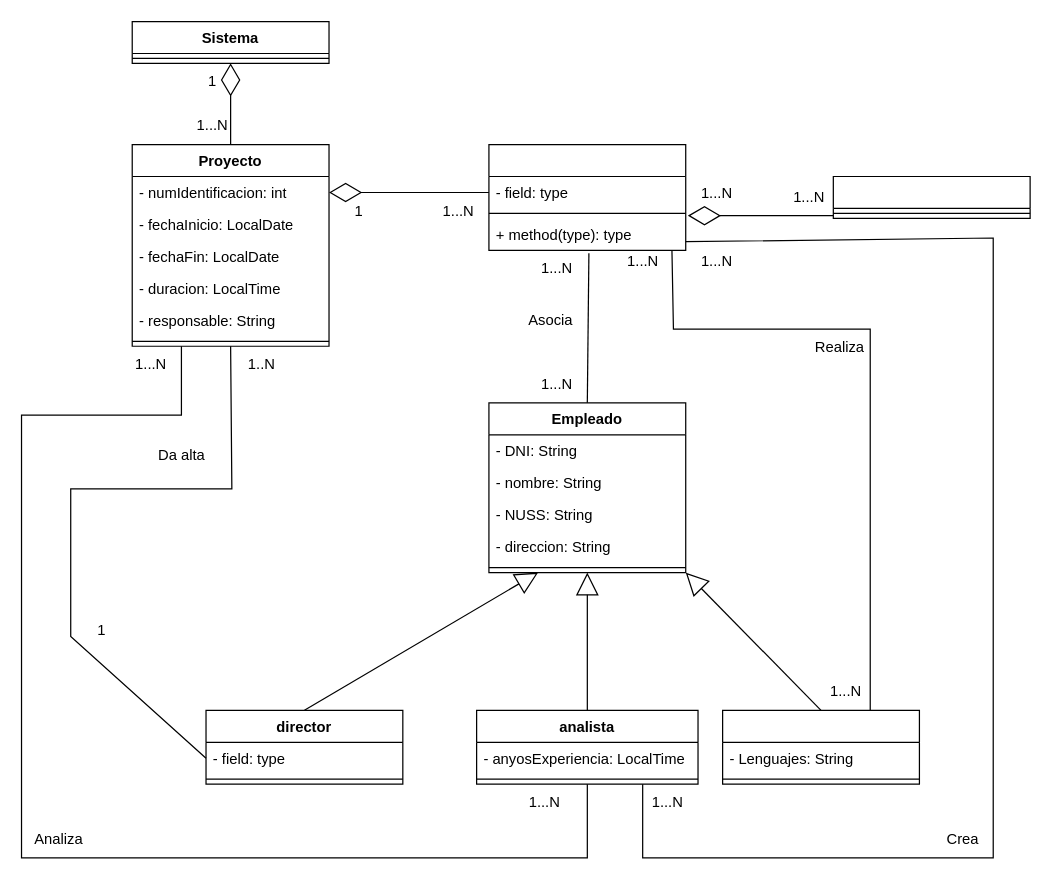
The diagram is 1052 pixels wide and 881 high, and some of its shapes have lost their labels. Here are the shapes that lost their labels. From the top down, the box of each, then its label:
(488, 143, 686, 250): Tarea
(832, 175, 1030, 218): Grupo
(721, 709, 919, 784): programador
